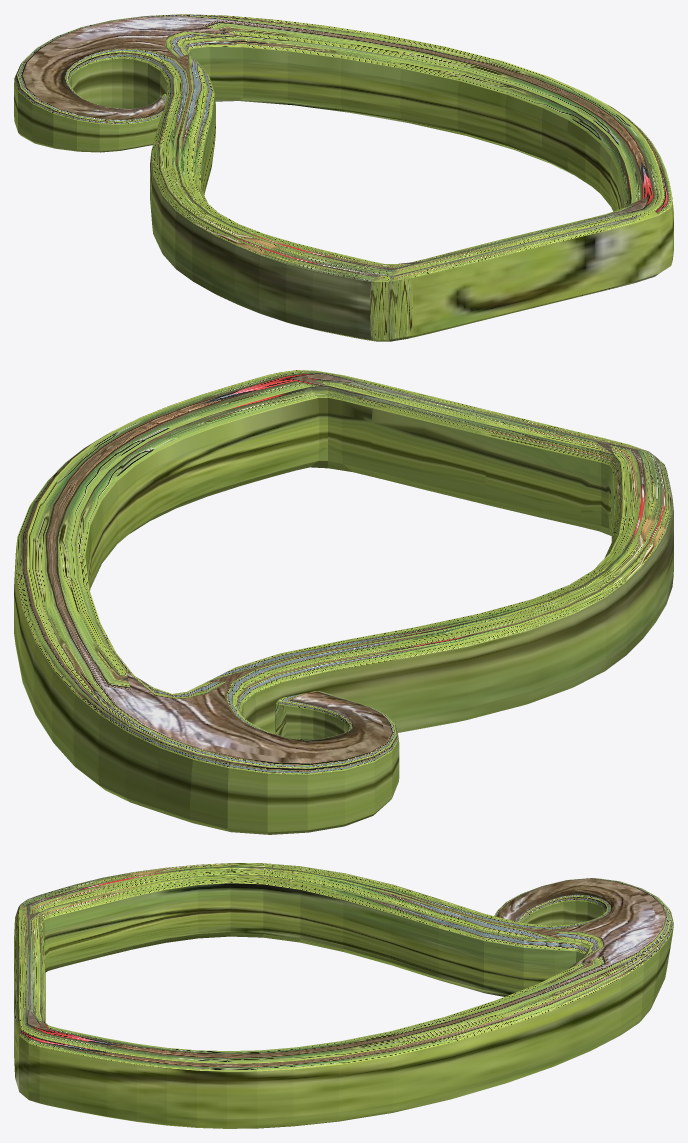
The picture shows the model from 3 angles, top to bottom: view 1: azimuth 30°, elevation 25°; view 2: azimuth 150°, elevation 25°; view 3: azimuth 270°, elevation 25°; orthographic projection. The views are drawn at different scales.
Visible parts, largest first — view 1: Frame_Cube; view 2: Frame_Cube; view 3: Frame_Cube.
Part boxes in pixels (x1,y1,x2,y2): Frame_Cube: (14,14,673,341); Frame_Cube: (14,370,673,834); Frame_Cube: (14,863,673,1128).
Size of the model in its own units: 3.49 by 0.5333 by 4.7.
